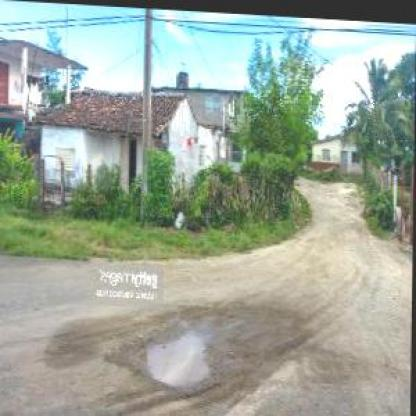pothole: (147, 319, 216, 388)
